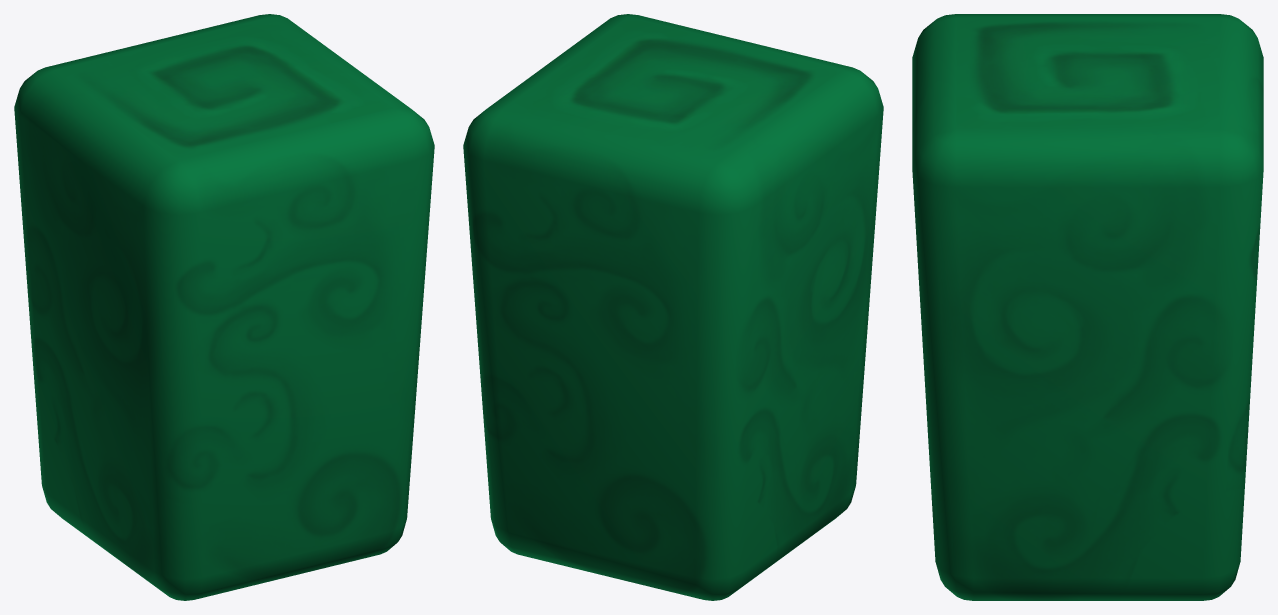
The model's file is StruikVierkant_Groot.FBX.
The picture shows the model from 3 angles, left to right: view 1: azimuth 30°, elevation 25°; view 2: azimuth 150°, elevation 25°; view 3: azimuth 270°, elevation 25°; orthographic projection. The views are drawn at different scales.
Parts seen in each view (by area): view 1: ChamferBox001; view 2: ChamferBox001; view 3: ChamferBox001.
Boxes of the visible parts, bbox=[...] form: ChamferBox001: bbox=[14, 14, 434, 600]; ChamferBox001: bbox=[463, 14, 883, 600]; ChamferBox001: bbox=[912, 14, 1263, 600].
Bounding box in the file's own units: 40 × 59.76 × 40.
Materials: 1 (1 with a texture image).
